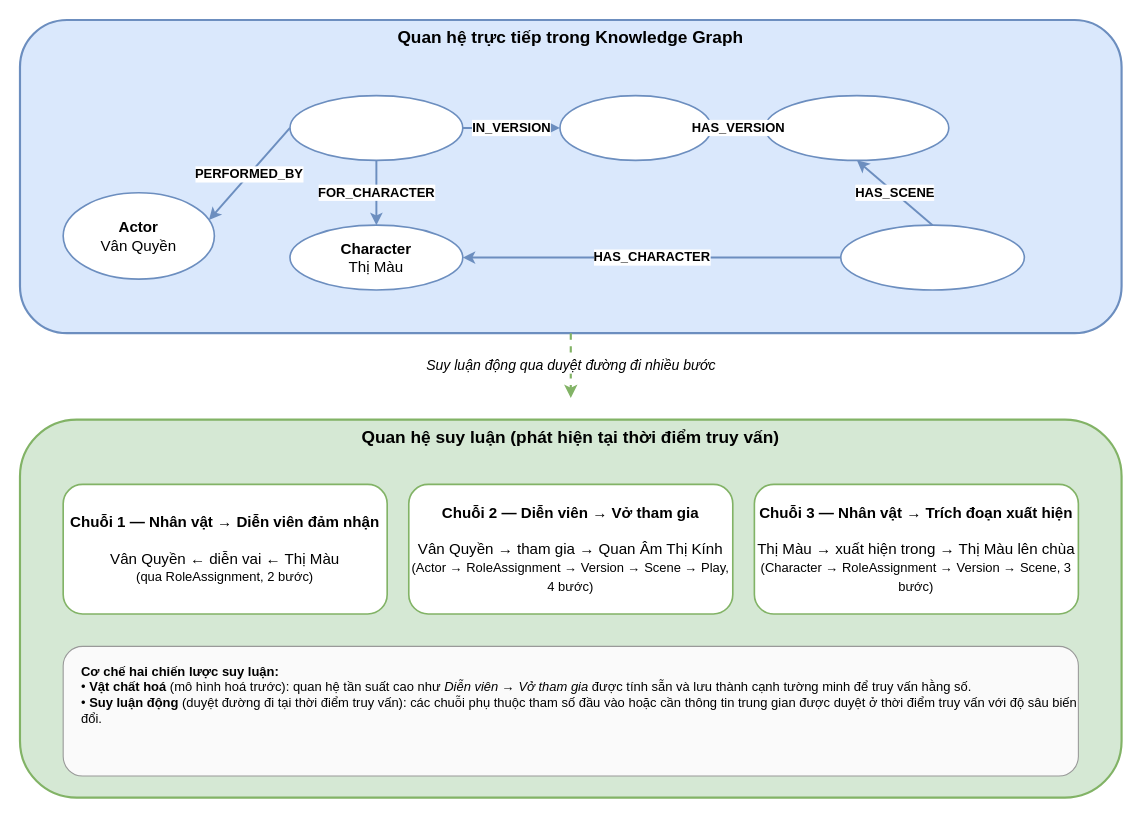
This 1140x816 diagram has some shape labels left out. The centre of each missing label's shape, as x and y in pixels:
"Play Quan Âm Thị Kính" goes at pixel 932 257.
"RoleAssignment" goes at pixel 376 127.
"Scene Thị Màu lên chùa" goes at pixel 856 127.
"Version" goes at pixel 635 127.
